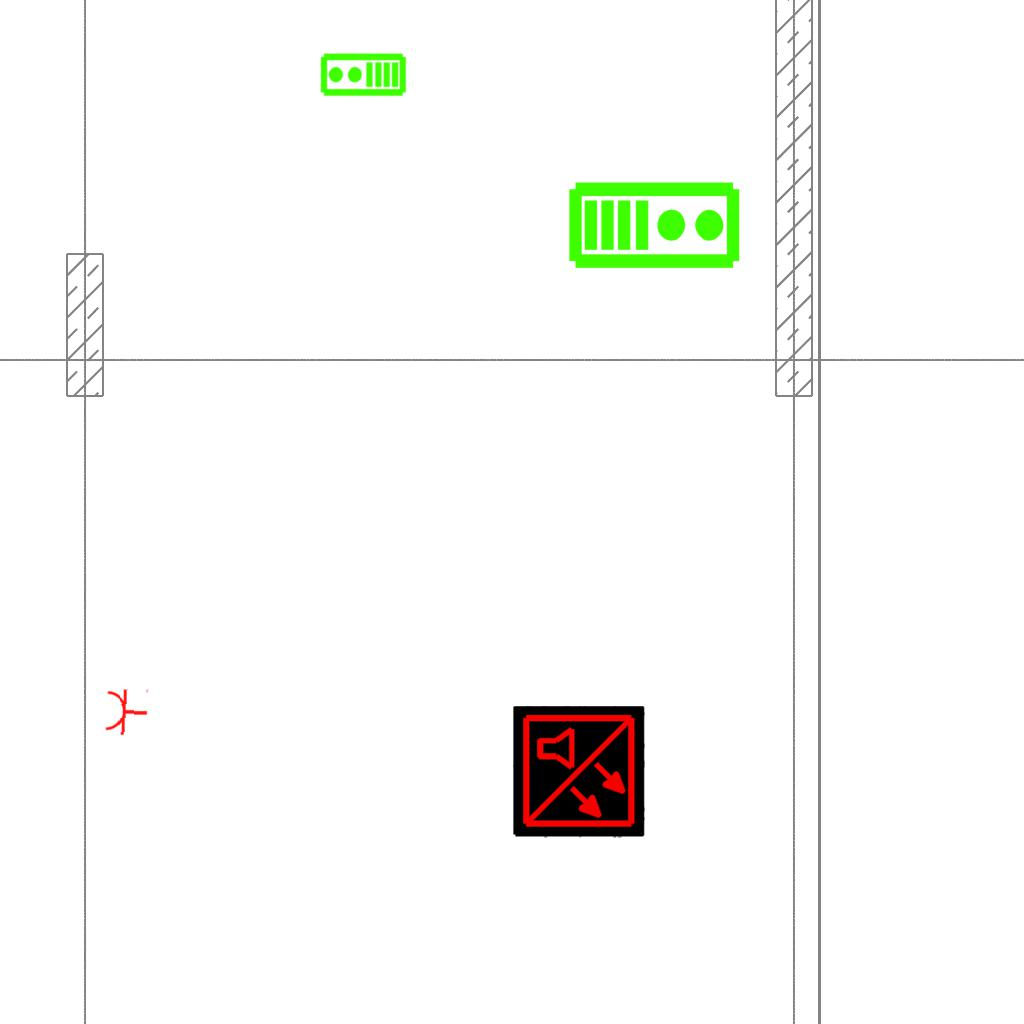Gegensprechanlage_mit_Video: (567, 176, 743, 271), (319, 52, 407, 99)
OKW_Multisensormelder_(Kombination_optischer_Rauch-Kahlenmonoxid_Waerme-Melder): (513, 706, 645, 838)
Schukosteckdose_einfach: (103, 684, 150, 738)
